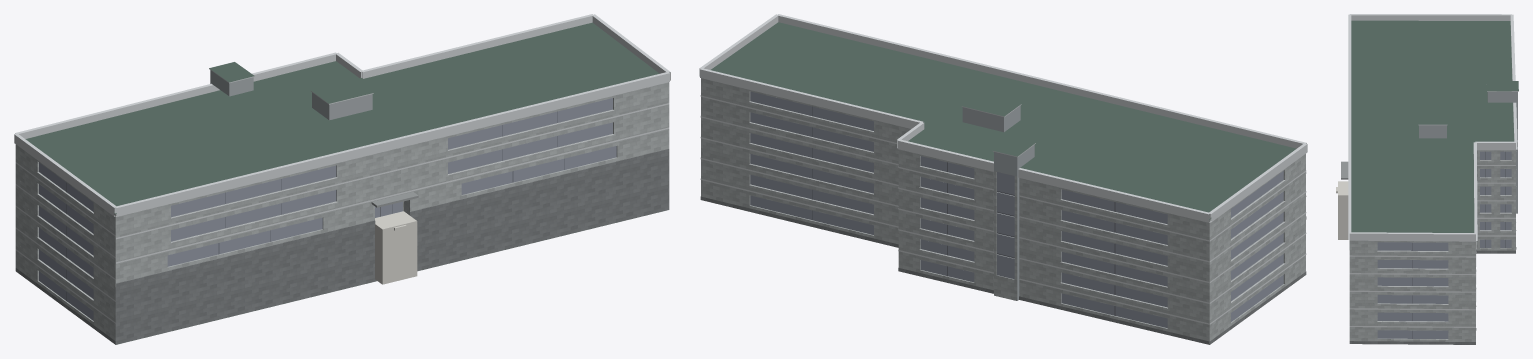
3 renders of one model, left to right at view 1: azimuth 30°, elevation 25°; view 2: azimuth 150°, elevation 25°; view 3: azimuth 270°, elevation 25°, orthographic. The views are drawn at different scales.
Parts seen in each view (by area): view 1: b104__roof, b104__wall, b104__base, b104__trim, b104__glass, b104__entranceStair, b104__wall2; view 2: b104__wall, b104__roof, b104__glass, b104__trim, b104__base, b104__wall2; view 3: b104__roof, b104__wall, b104__trim, b104__glass, b104__wall2, b104__entranceStair, b104__base.
Boxes of the visible parts, x1,y1,x2,y2 form: b104__roof: (25, 22, 662, 344); b104__wall: (15, 82, 669, 340); b104__base: (15, 149, 669, 344); b104__trim: (14, 14, 670, 323); b104__glass: (39, 98, 616, 320); b104__entranceStair: (375, 211, 417, 284); b104__wall2: (210, 70, 372, 120); b104__wall: (701, 78, 1305, 344); b104__roof: (711, 22, 1296, 219); b104__glass: (750, 91, 1283, 327); b104__trim: (699, 14, 1307, 324); b104__base: (700, 196, 1306, 344); b104__wall2: (962, 105, 1034, 300); b104__roof: (1351, 20, 1518, 344); b104__wall: (1349, 150, 1515, 341); b104__trim: (1348, 14, 1518, 327); b104__glass: (1377, 151, 1511, 338); b104__wall2: (1419, 91, 1517, 213); b104__entranceStair: (1336, 181, 1348, 239); b104__base: (1349, 247, 1516, 344).
Size of the model in its own units: 96.68 by 25.13 by 33.88.
Materials: 10 (2 with a texture image).
